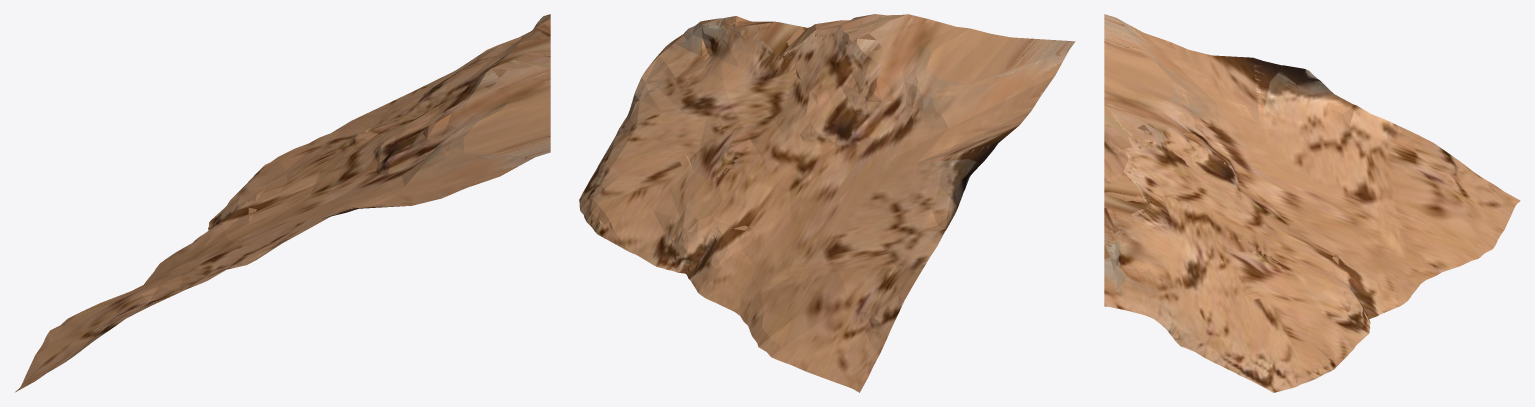
3 views of the same model, side by side, from view 1: azimuth 90°, elevation 25°; view 2: azimuth 150°, elevation 25°; view 3: azimuth 270°, elevation 25° (orthographic). The views are drawn at different scales.
Bounding box in the file's own units: 1.04 × 0.4729 × 0.9561.
2 materials, 2 textured.
